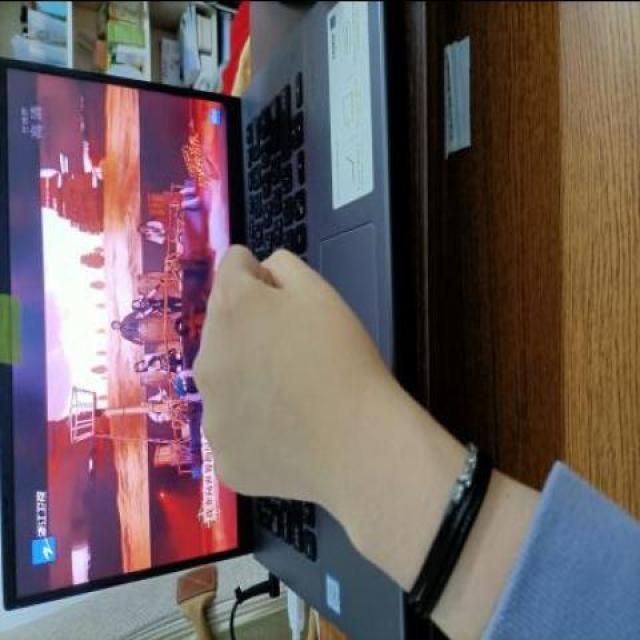Closed Hand: (192, 233, 403, 523)
